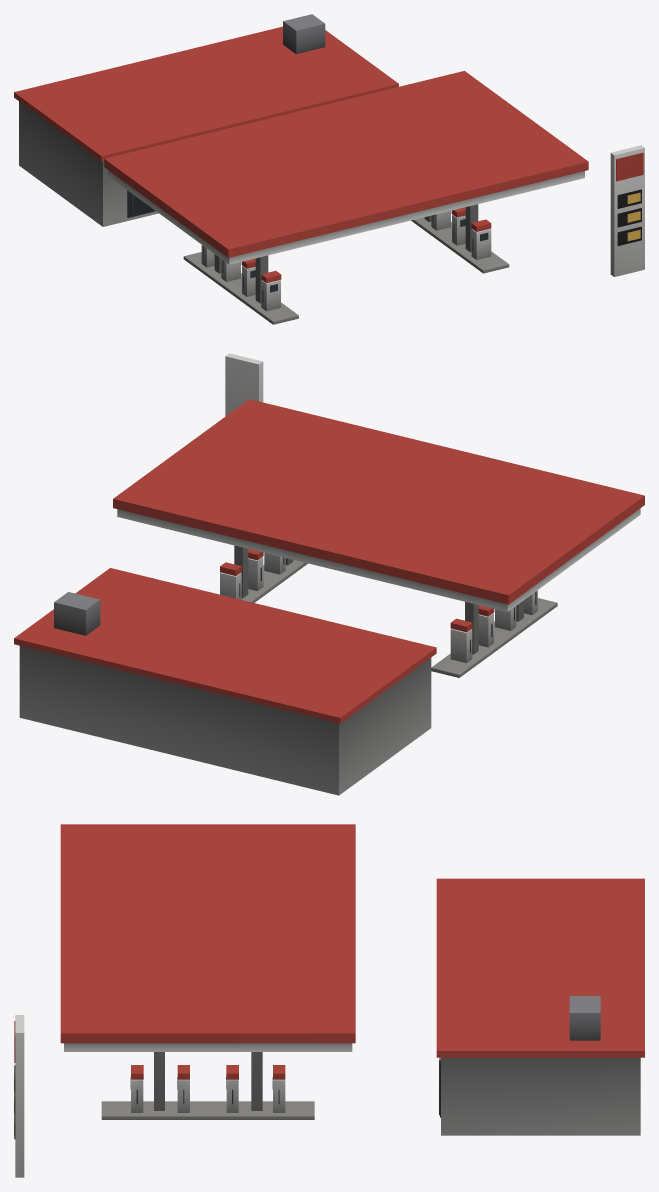
File: tankstelle.glb
3 renders of one model, top to bottom at view 1: azimuth 30°, elevation 25°; view 2: azimuth 150°, elevation 25°; view 3: azimuth 270°, elevation 25°, orthographic. The views are drawn at different scales.
Visible parts, largest first — view 1: farbe, lack, glas; view 2: farbe, lack; view 3: farbe, lack.
Part boxes in pixels (x1,y1,x2,y2): farbe: (14, 26, 643, 283); lack: (19, 14, 644, 324); glas: (127, 190, 488, 292); farbe: (14, 399, 644, 723); lack: (19, 353, 640, 795); farbe: (14, 824, 644, 1079); lack: (14, 996, 640, 1177).
Bounding box in the file's own units: 24.6 × 7.2 × 28.46.
